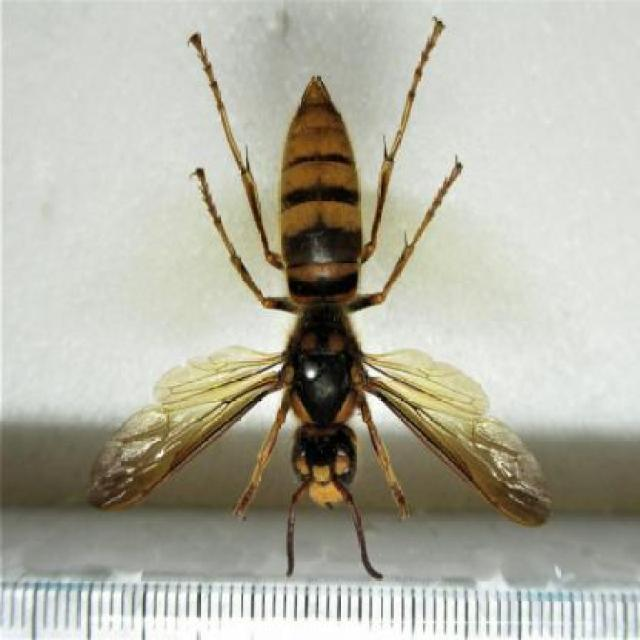Wasp: (88, 13, 560, 583)
